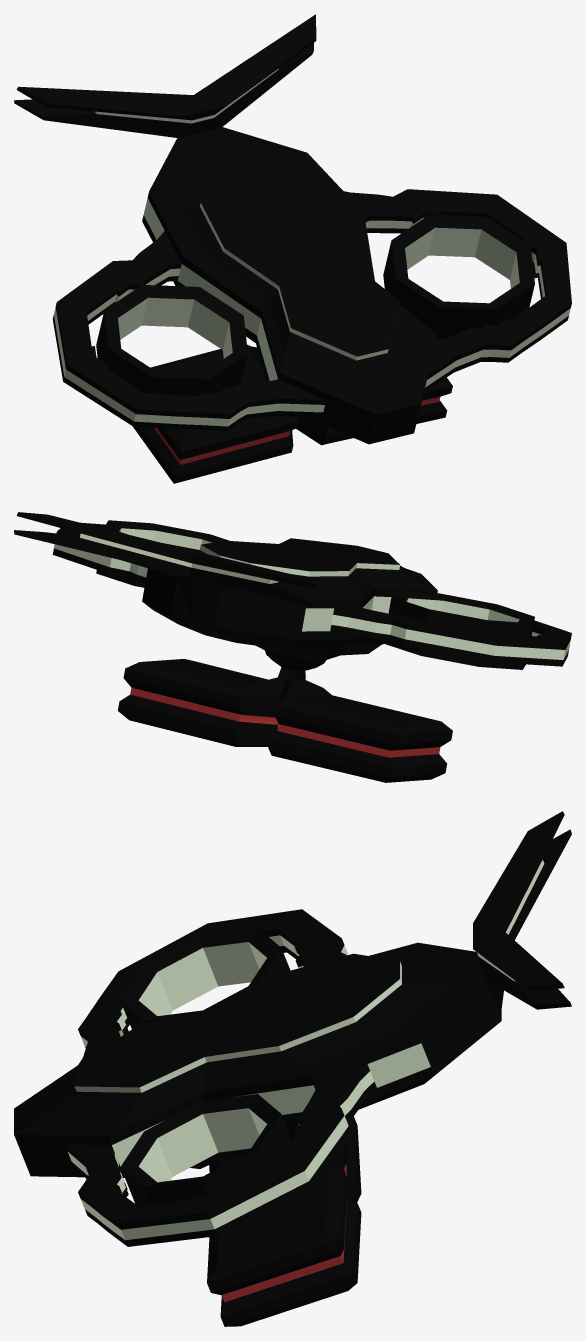
File: SM_CYBER_Drone_D.fbx
The picture shows the model from 3 angles, top to bottom: view 1: azimuth 30°, elevation 25°; view 2: azimuth 150°, elevation 25°; view 3: azimuth 270°, elevation 25°; orthographic projection. The views are drawn at different scales.
Parts seen in each view (by area): view 1: SM_CYBER_Drone_D; view 2: SM_CYBER_Drone_D; view 3: SM_CYBER_Drone_D.
Boxes of the visible parts, x1,y1,x2,y2 form: SM_CYBER_Drone_D: (14, 14, 571, 483); SM_CYBER_Drone_D: (14, 512, 571, 782); SM_CYBER_Drone_D: (14, 811, 571, 1326).
Bounding box in the file's own units: 0.131 × 0.075 × 0.1069.
